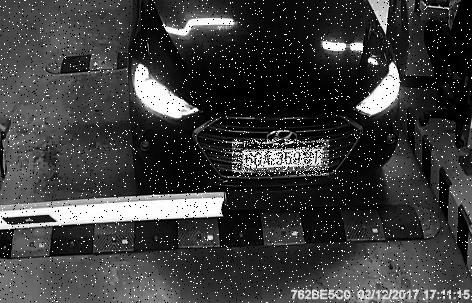License-plate: (233, 140, 330, 177)
